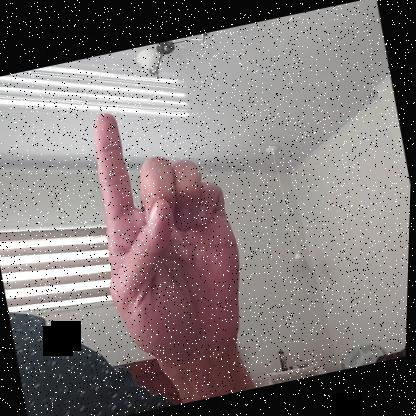D: (73, 89, 265, 373)
